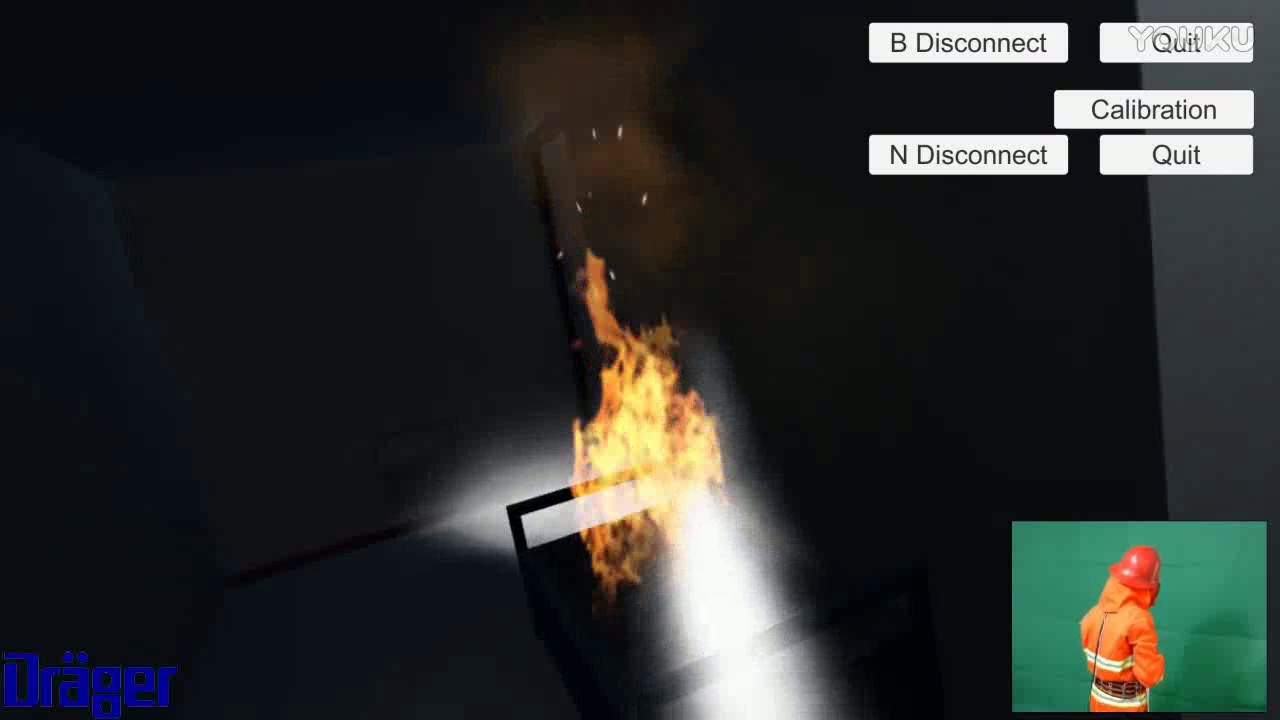fire: (550, 242, 728, 603)
